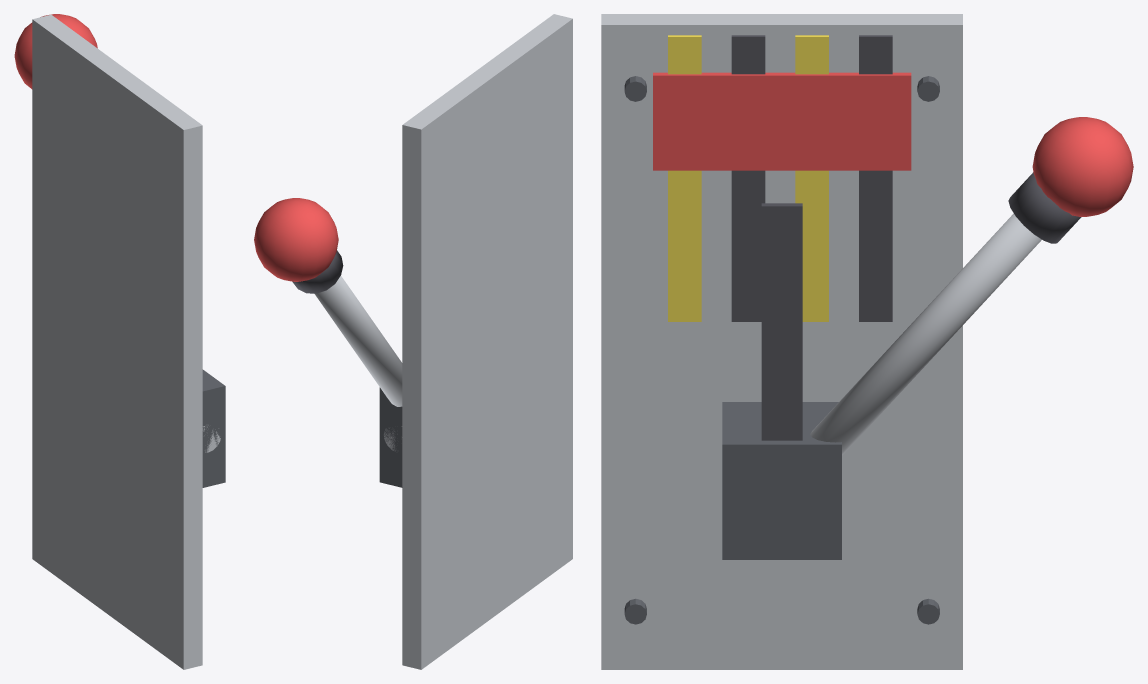
File: EvacLever.fbx
The picture shows the model from 3 angles, left to right: view 1: azimuth 30°, elevation 25°; view 2: azimuth 150°, elevation 25°; view 3: azimuth 270°, elevation 25°; orthographic projection. The views are drawn at different scales.
Visible parts, largest first — view 1: EvacLever_WallPlate, EvacLever_Housing, EvacLever_Grip; view 2: EvacLever_WallPlate, EvacLever_Grip, EvacLever_Arm, EvacLever_Housing, EvacLever_Collar; view 3: EvacLever_WallPlate, EvacLever_Sign, EvacLever_Housing, EvacLever_Arm, EvacLever_Guide, EvacLever_Grip, EvacLever_Stripe0, EvacLever_Stripe3, EvacLever_Stripe1, EvacLever_Stripe2, EvacLever_Collar.
Part boxes in pixels (x1,y1,x2,y2): EvacLever_WallPlate: (32, 14, 202, 669); EvacLever_Housing: (202, 369, 225, 487); EvacLever_Grip: (14, 14, 97, 89); EvacLever_WallPlate: (402, 14, 572, 669); EvacLever_Grip: (254, 198, 338, 281); EvacLever_Arm: (314, 276, 402, 406); EvacLever_Housing: (379, 387, 402, 487); EvacLever_Collar: (292, 250, 343, 293); EvacLever_WallPlate: (601, 14, 962, 669); EvacLever_Sign: (653, 72, 911, 170); EvacLever_Housing: (722, 402, 841, 559); EvacLever_Arm: (810, 213, 1041, 455); EvacLever_Guide: (761, 203, 802, 440); EvacLever_Grip: (1032, 117, 1133, 216); EvacLever_Stripe0: (668, 35, 701, 321); EvacLever_Stripe3: (859, 35, 892, 321); EvacLever_Stripe1: (731, 35, 765, 321); EvacLever_Stripe2: (795, 35, 828, 321); EvacLever_Collar: (1008, 172, 1081, 243).
Size of the model in its own units: 40.79 by 190 by 142.
